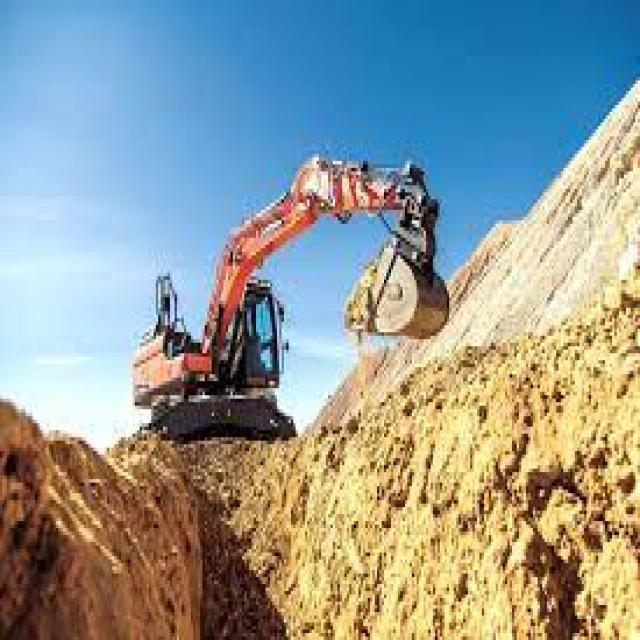excavator: (130, 144, 452, 451)
